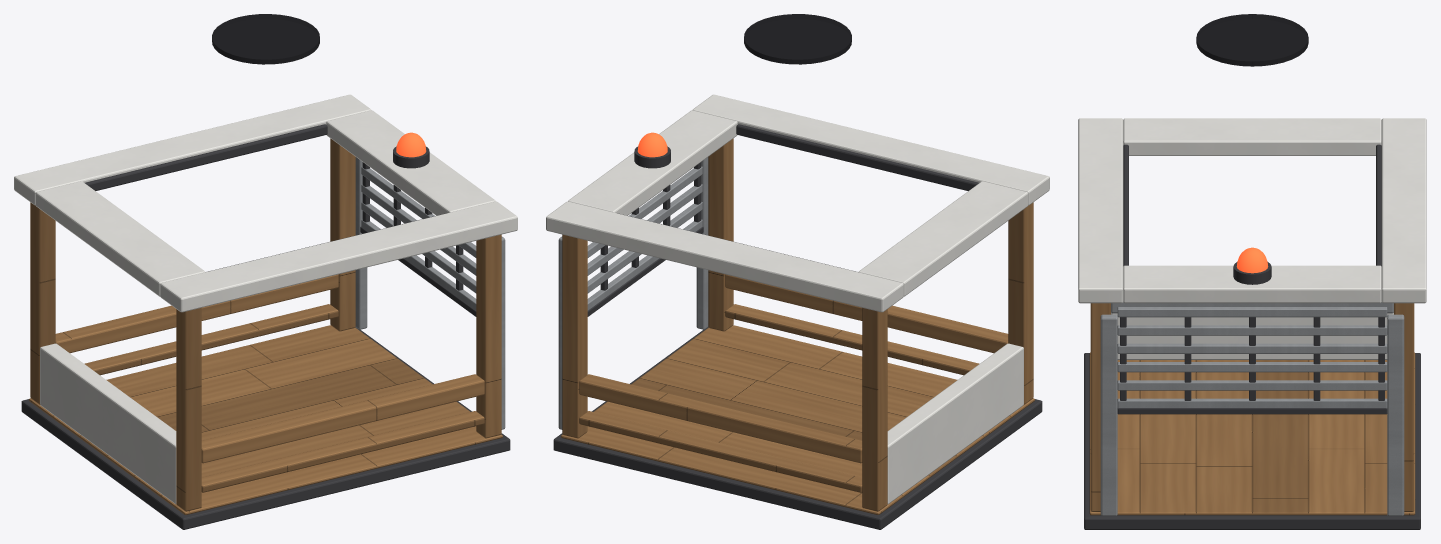
Rendered from station_guard.fbx.
3 renders of one model, left to right at view 1: azimuth 30°, elevation 25°; view 2: azimuth 150°, elevation 25°; view 3: azimuth 270°, elevation 25°, orthographic. The views are drawn at different scales.
Visible parts, largest first — view 1: 창, 받침, 차단문, 침입자, 경보등; view 2: 창, 받침, 차단문, 침입자, 경보등; view 3: 창, 받침, 차단문, 침입자, 경보등.
Boxes of the visible parts, x1=… form: 창: x1=14, y1=94, x2=517, y2=511; 받침: x1=21, y1=325, x2=510, y2=529; 차단문: x1=360, y1=162, x2=476, y2=316; 침입자: x1=212, y1=14, x2=319, y2=64; 경보등: x1=393, y1=132, x2=429, y2=168; 창: x1=546, y1=94, x2=1049, y2=511; 받침: x1=553, y1=325, x2=1042, y2=529; 차단문: x1=587, y1=162, x2=703, y2=316; 침입자: x1=744, y1=14, x2=851, y2=64; 경보등: x1=634, y1=132, x2=670, y2=168; 창: x1=1078, y1=118, x2=1426, y2=515; 받침: x1=1084, y1=352, x2=1420, y2=529; 차단문: x1=1117, y1=307, x2=1387, y2=414; 침입자: x1=1196, y1=14, x2=1308, y2=66; 경보등: x1=1233, y1=247, x2=1271, y2=284.
Size of the model in its own units: 7200 by 8050 by 6200.
6 materials, 3 textured.
